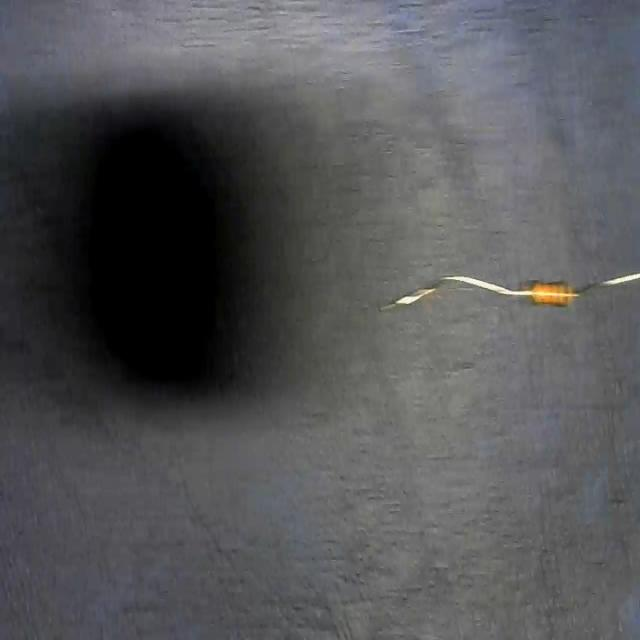resistor: (385, 267, 640, 312)
